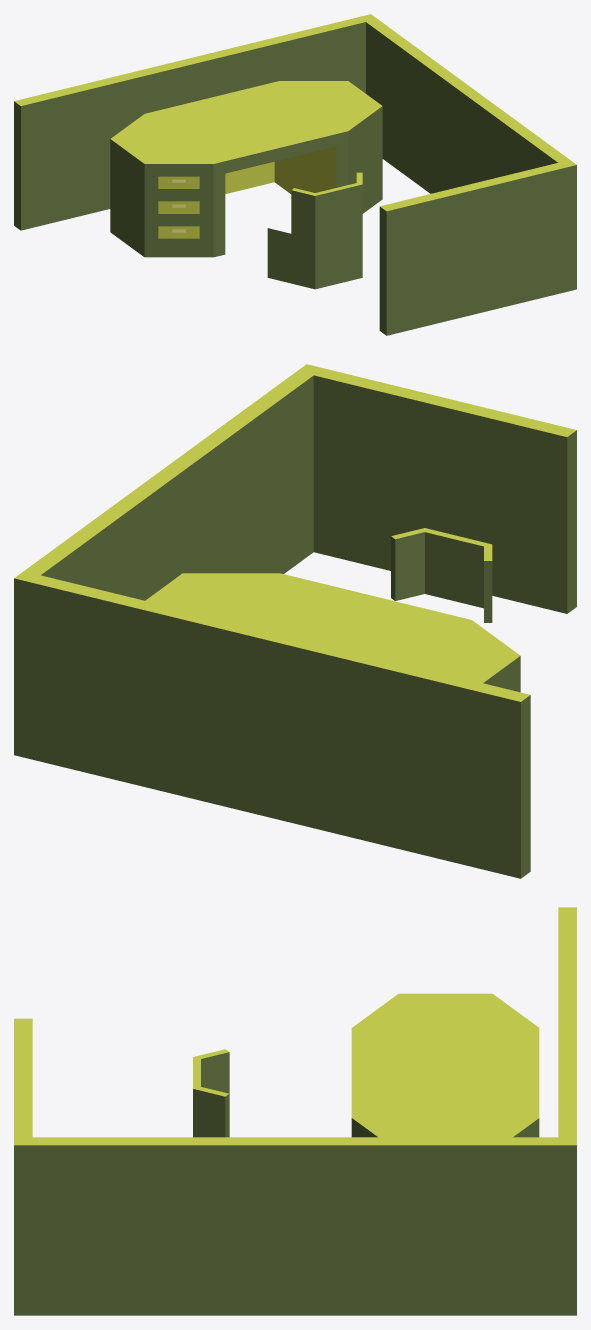
File: SimplifiedDesk.gltf
3 renders of one model, top to bottom at view 1: azimuth 30°, elevation 25°; view 2: azimuth 150°, elevation 25°; view 3: azimuth 270°, elevation 25°, orthographic. The views are drawn at different scales.
Visible parts, largest first — view 1: Mesh2 Model, Mesh3 Model, Mesh1 Model; view 2: Mesh2 Model, Mesh3 Model, Mesh1 Model; view 3: Mesh2 Model, Mesh3 Model, Mesh1 Model.
Boxes of the visible parts, left/top/right/bottom form: Mesh2 Model: left=14, top=14, right=576, bottom=335; Mesh3 Model: left=110, top=81, right=382, bottom=257; Mesh1 Model: left=267, top=172, right=362, bottom=289; Mesh2 Model: left=14, top=364, right=576, bottom=878; Mesh3 Model: left=145, top=573, right=520, bottom=692; Mesh1 Model: left=391, top=528, right=492, bottom=622; Mesh2 Model: left=14, top=907, right=576, bottom=1315; Mesh3 Model: left=351, top=993, right=539, bottom=1137; Mesh1 Model: left=193, top=1049, right=229, bottom=1137.
Size of the model in its own units: 3 by 1 by 3.
